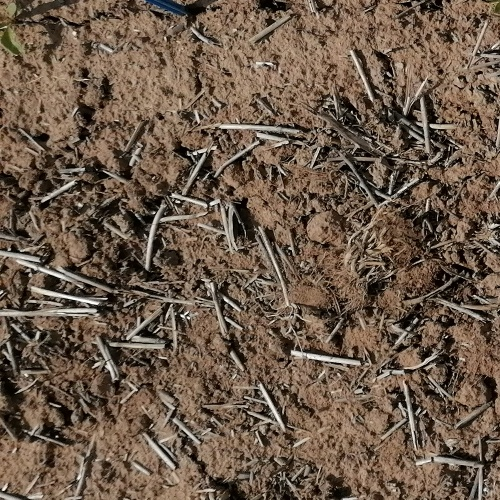beet: (0, 0, 26, 60)
